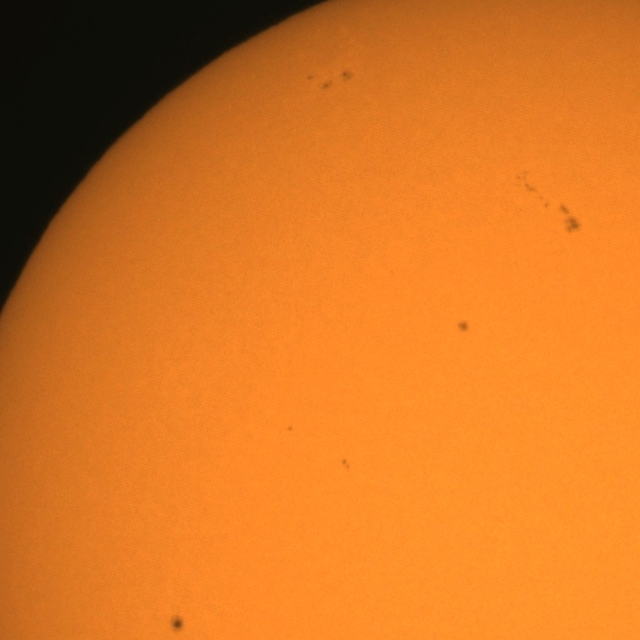sunspot: (519, 178, 552, 208), (558, 201, 582, 235), (314, 69, 350, 91), (306, 74, 332, 91), (169, 614, 186, 634), (456, 319, 470, 334), (340, 70, 352, 83), (341, 458, 351, 472), (320, 81, 332, 91), (286, 424, 294, 433)
